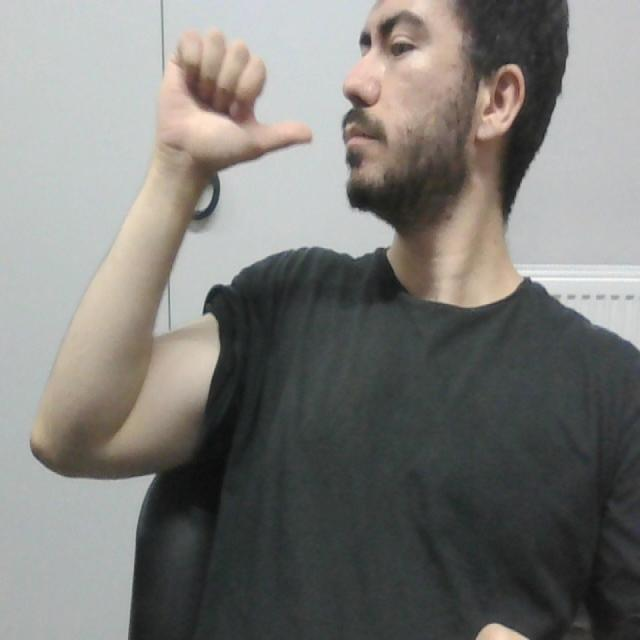icmek: (130, 28, 370, 181)
